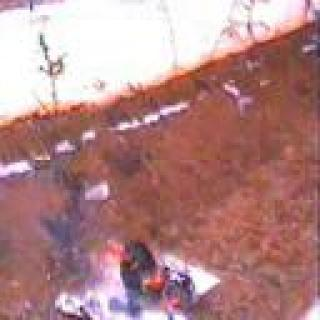fire: (90, 230, 190, 320)
